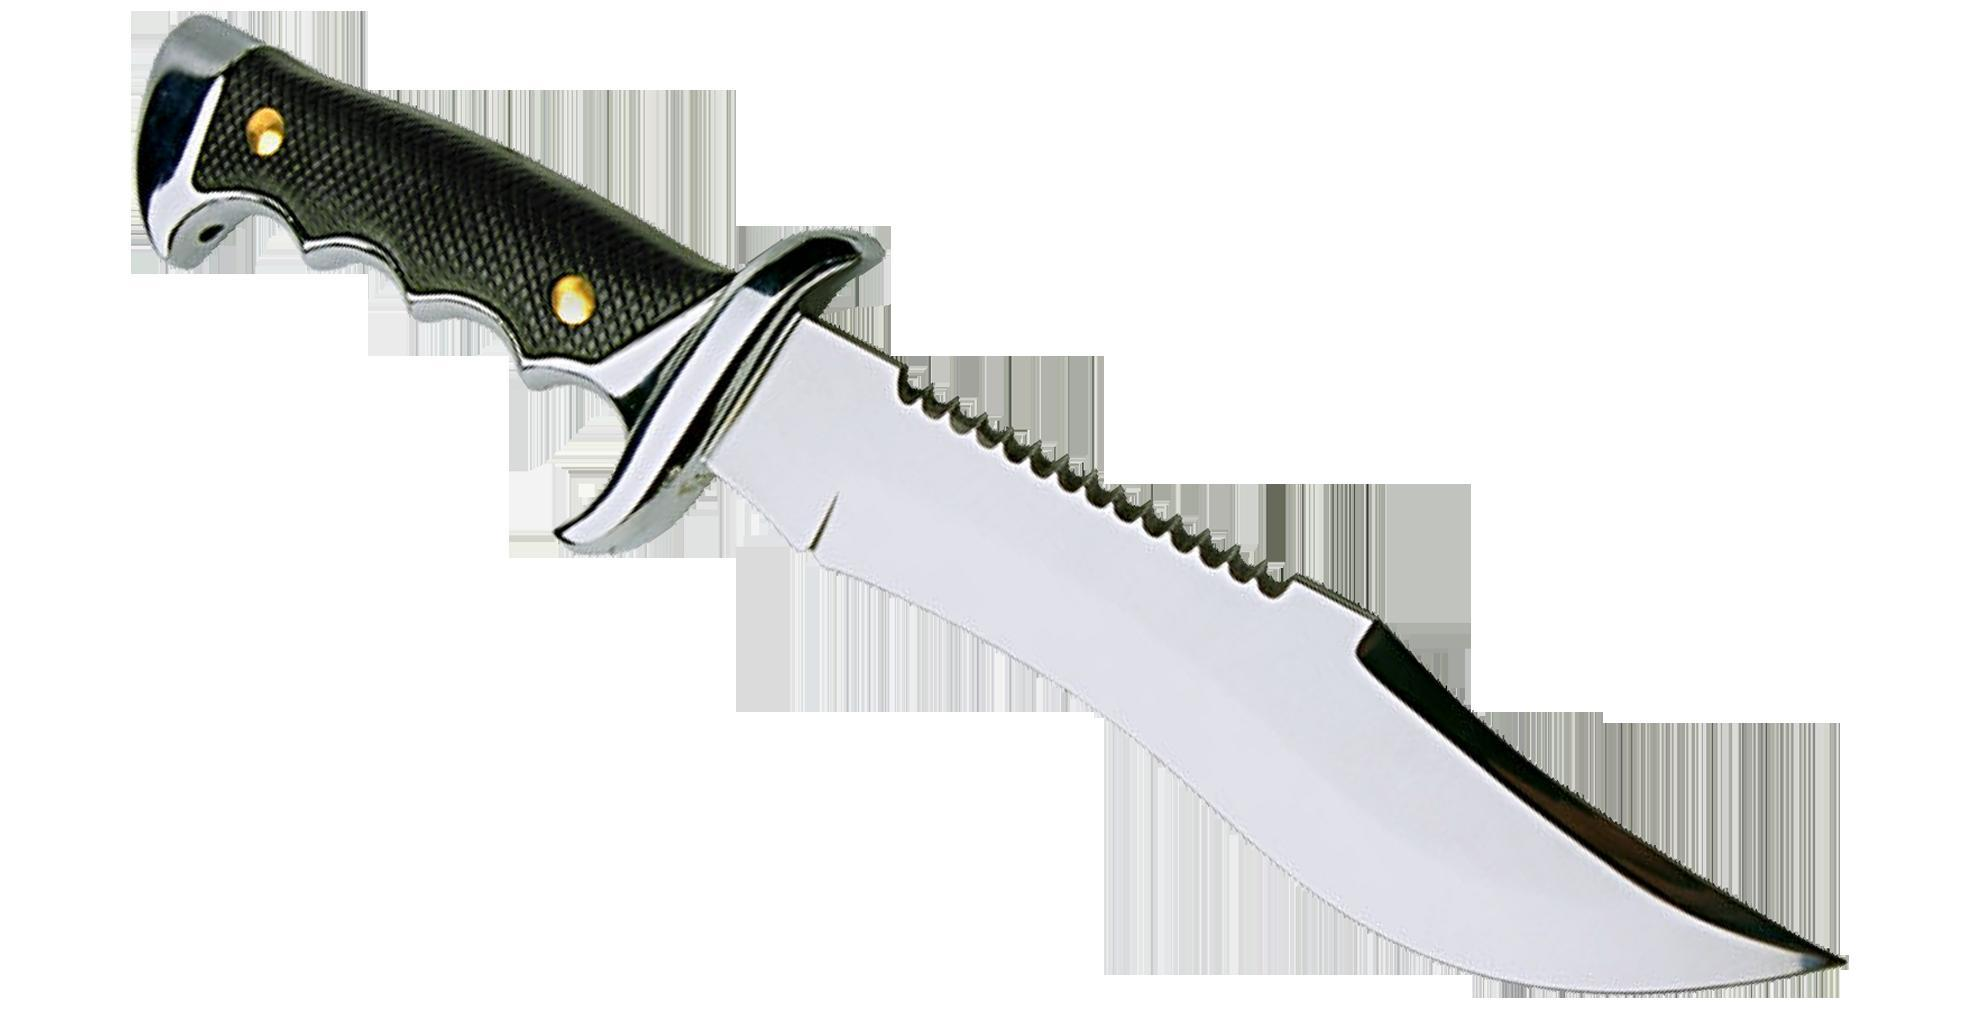faca: (136, 17, 1840, 993)
